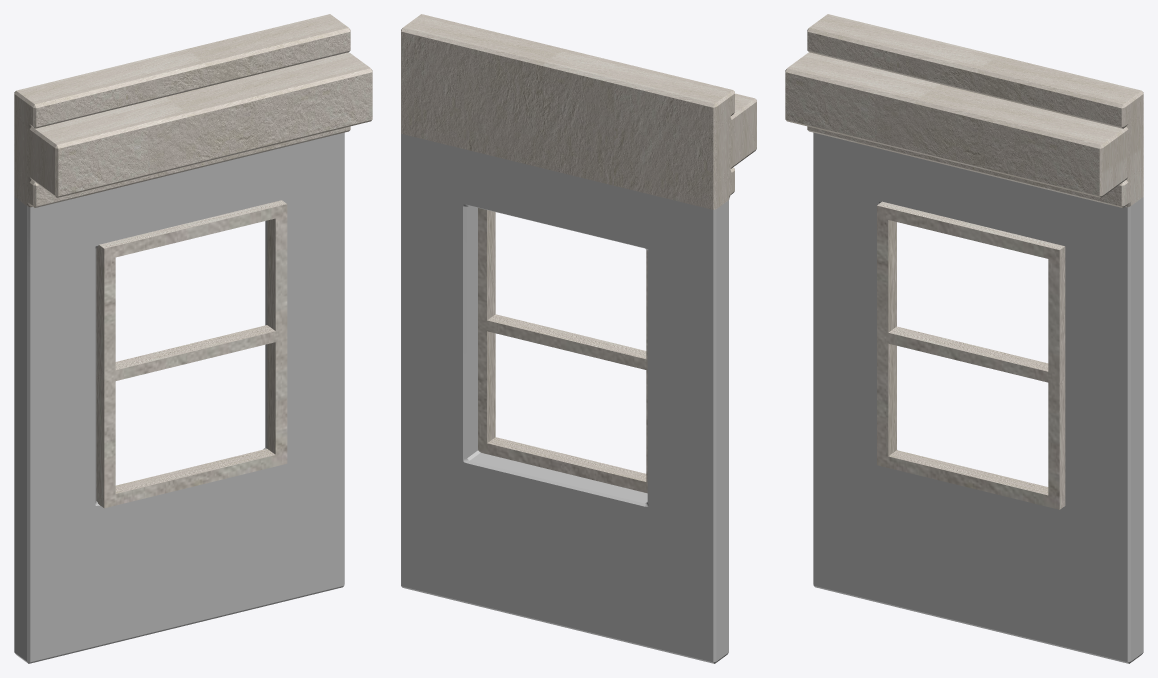
The model's file is WindowV8.fbx.
3 renders of one model, left to right at view 1: azimuth 30°, elevation 25°; view 2: azimuth 150°, elevation 25°; view 3: azimuth 330°, elevation 25°, orthographic.
Visible parts, largest first — view 1: wall66, small_window57; view 2: wall66, small_window57; view 3: wall66, small_window57.
Part boxes in pixels (x1,y1,x2,y2): wall66: (14,14,372,663); small_window57: (96,200,287,508); wall66: (401,14,756,663); small_window57: (478,208,647,493); wall66: (785,14,1143,663); small_window57: (877,201,1065,509).
Size of the model in its own units: 264 by 448 by 63.22.
